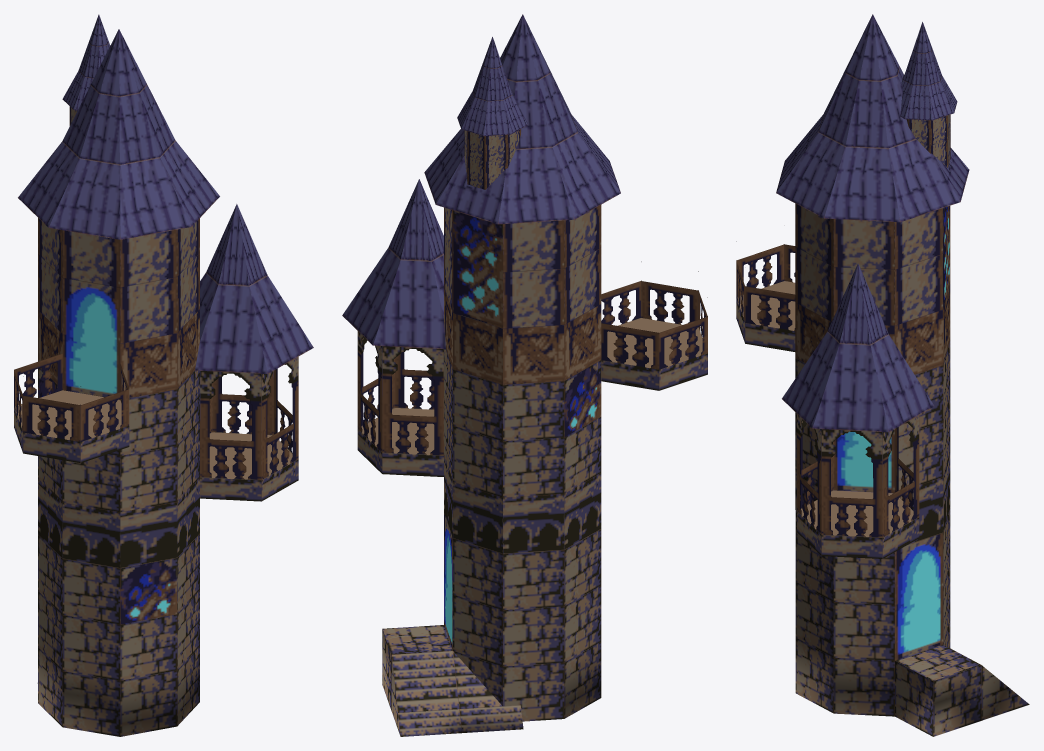
The model's file is tower.fbx.
3 renders of one model, left to right at view 1: azimuth 30°, elevation 25°; view 2: azimuth 150°, elevation 25°; view 3: azimuth 270°, elevation 25°, orthographic.
Parts seen in each view (by area): view 1: tower; view 2: tower; view 3: tower.
Part boxes in pixels (box(x1,y1,x2,y2)): tower: box(14, 14, 313, 736); tower: box(342, 14, 707, 736); tower: box(736, 14, 1029, 736).
Bounding box in the file's own units: 1164 × 2400 × 953.
